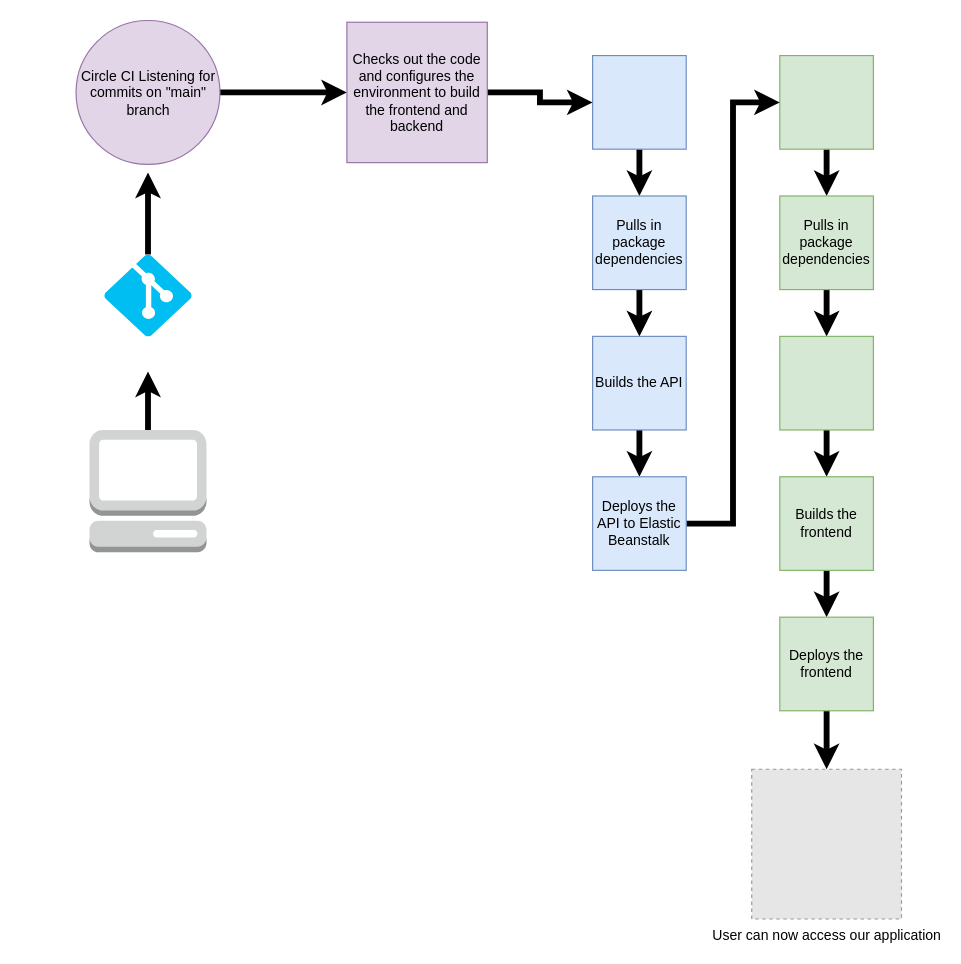
Image size: 961x964. Some labels were removed from this diagram. Grey dashed boxes stand in for pictures. The shapes that lost their labels are listed below. From the top down, each one's centre as x and y in pixels, then its label:
point 638,101: Backend
point 826,101: Frontend
point 147,295: Commit sent to remote GitHub repository
point 826,382: Runs the frontend unit tests
point 147,490: Developer pushes a commit
